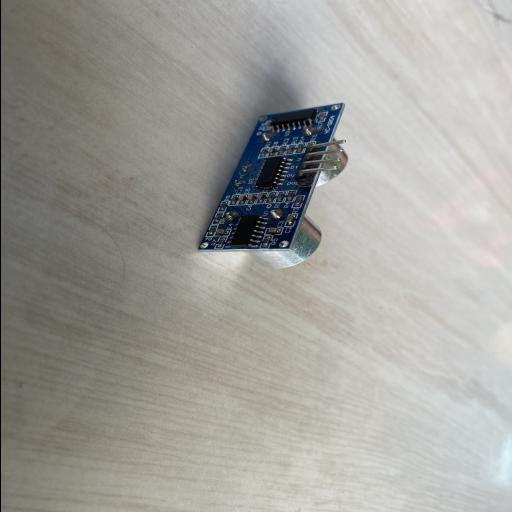Ultrasonic Sensor: (196, 103, 348, 269)
